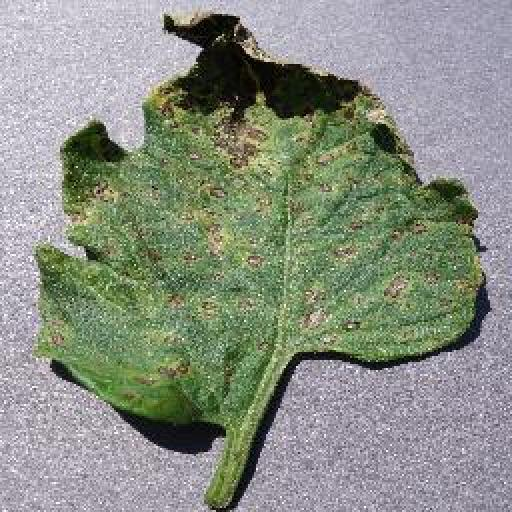Septoria: (34, 8, 490, 435)
